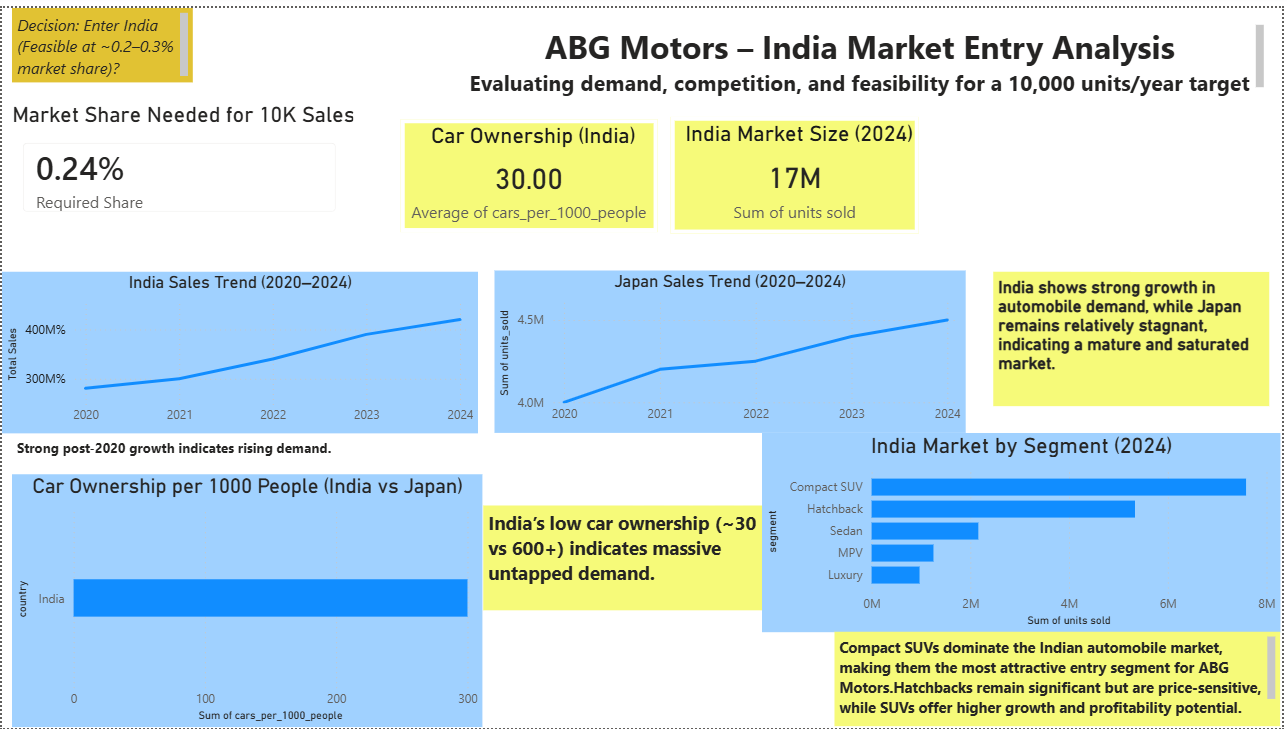

The dashboard page shown, as its layout file describes it:
{"tool":"powerbi","page":{"name":"Page 1","canvas":[1280,720],"ordinal":0},"visuals":[{"type":"card","title":"India Market Size (2024)","fields":{"Values":["Sum(india_car_sales.units_sold_india)"]},"box":[668.3,108.4,248.4,116.6],"z":0},{"type":"cardVisual","title":"Market Share Needed for 10K Sales","fields":{"Data":["india_car_sales.Required Share"]},"box":[0,94.7,399.3,130.4],"z":1000},{"type":"card","title":"Car Ownership (India)","fields":{"Values":["Sum(public macro_indicators.cars_per_1000_people)"]},"box":[399.3,111.1,256.6,112.5],"z":2000},{"type":"lineChart","title":"India Sales Trend (2020–2024)","fields":{"Category":["india_car_sales.year"],"Y":["india_car_sales.Total Sales"]},"box":[0,263.5,476.2,161.9],"z":3000},{"type":"lineChart","title":"Japan Sales Trend (2020–2024)","fields":{"Category":["public japan_car_sales.year"],"Y":["Sum(public japan_car_sales.units_sold)"]},"box":[476.2,263.5,470.7,163.3],"z":4000},{"type":"textbox","box":[9.6,426.8,337.6,30.2],"z":5000},{"type":"textbox","box":[946.8,263.5,319.7,96.1],"z":6000},{"type":"clusteredBarChart","title":"Car Ownership per 1000 People (India vs Japan)","fields":{"Y":["Sum(public macro_indicators.cars_per_1000_people)"],"Category":["public macro_indicators.country"]},"box":[9.6,466.6,470.7,252.5],"z":7000},{"type":"textbox","box":[475.7,492.8,281.3,132.1],"z":8000},{"type":"textbox","box":[1129,113,150,151],"z":9000},{"type":"textbox","box":[947,570,320,150],"z":10000},{"type":"textbox","box":[444.6,0,834.3,108.4],"z":11000},{"type":"textbox","box":[9.6,0,181.1,74.1],"z":12000},{"type":"clusteredBarChart","title":"India Market by Segment (2024)","fields":{"Category":["india_car_sales.segment"],"Y":["Sum(india_car_sales.units_sold_india)"]},"box":[760.2,425.4,518.7,199],"z":14000},{"type":"textbox","box":[832.9,624.4,446,94.7],"z":14001}]}

Visuals, with their boxes in screenshot pixels (x1, y1, x2, y2), scaled from the page's 1280x720 canvas onto the 1287x729 screenshot:
"India Market Size (2024)" card: box=[672, 110, 922, 228]
"Market Share Needed for 10K Sales" cardVisual: box=[0, 96, 401, 228]
"Car Ownership (India)" card: box=[401, 112, 659, 226]
"India Sales Trend (2020–2024)" lineChart: box=[0, 267, 479, 431]
"Japan Sales Trend (2020–2024)" lineChart: box=[479, 267, 952, 432]
textbox: box=[10, 432, 349, 463]
textbox: box=[952, 267, 1273, 364]
"Car Ownership per 1000 People (India vs Japan)" clusteredBarChart: box=[10, 472, 483, 728]
textbox: box=[478, 499, 761, 633]
textbox: box=[1135, 114, 1286, 267]
textbox: box=[952, 577, 1274, 728]
textbox: box=[447, 0, 1286, 110]
textbox: box=[10, 0, 192, 75]
"India Market by Segment (2024)" clusteredBarChart: box=[764, 431, 1286, 632]
textbox: box=[837, 632, 1286, 728]
